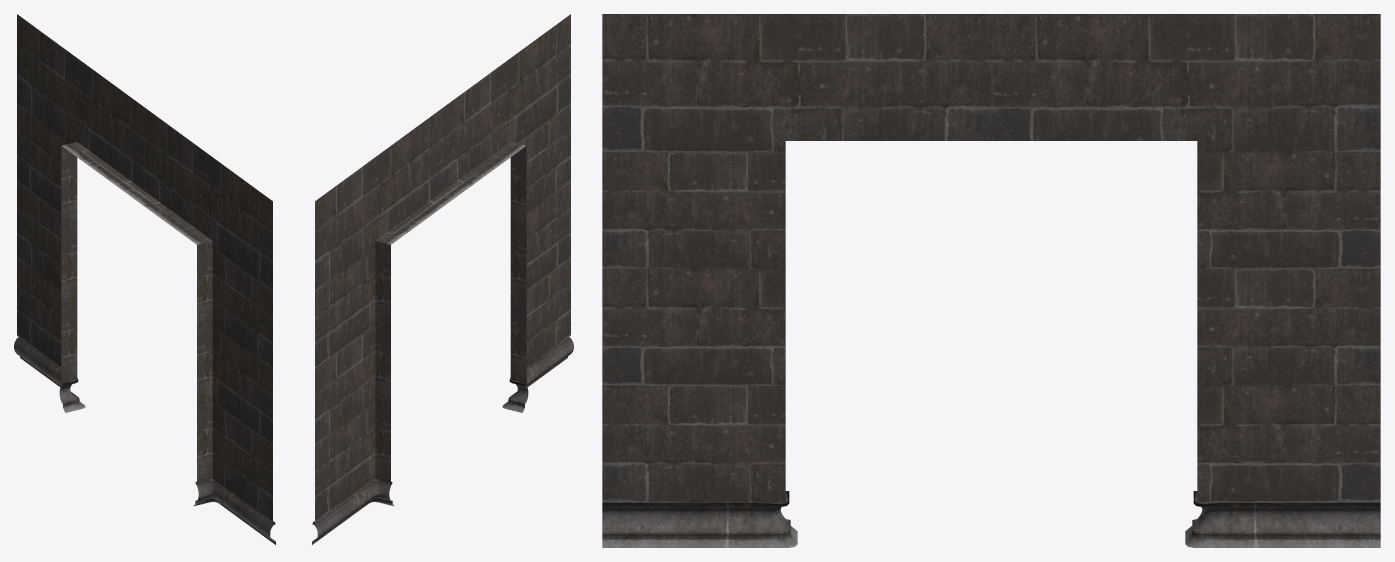
File: Psychiatric_Ward_Basement_Lower_Wall_4m_Door_A.glb
The picture shows the model from 3 angles, left to right: view 1: azimuth 30°, elevation 25°; view 2: azimuth 150°, elevation 25°; view 3: azimuth 270°, elevation 25°; orthographic projection. The views are drawn at different scales.
Visible parts, largest first — view 1: Psychiatric_Ward_Basement_Lower_Wall_4m_Door_A; view 2: Psychiatric_Ward_Basement_Lower_Wall_4m_Door_A; view 3: Psychiatric_Ward_Basement_Lower_Wall_4m_Door_A.
Part boxes in pixels (x1,y1,x2,y2): Psychiatric_Ward_Basement_Lower_Wall_4m_Door_A: (14, 14, 275, 544); Psychiatric_Ward_Basement_Lower_Wall_4m_Door_A: (312, 14, 573, 544); Psychiatric_Ward_Basement_Lower_Wall_4m_Door_A: (602, 14, 1380, 547).
Bounding box in the file's own units: 0.2049 × 3 × 4.
Materials: 1 (1 with a texture image).
